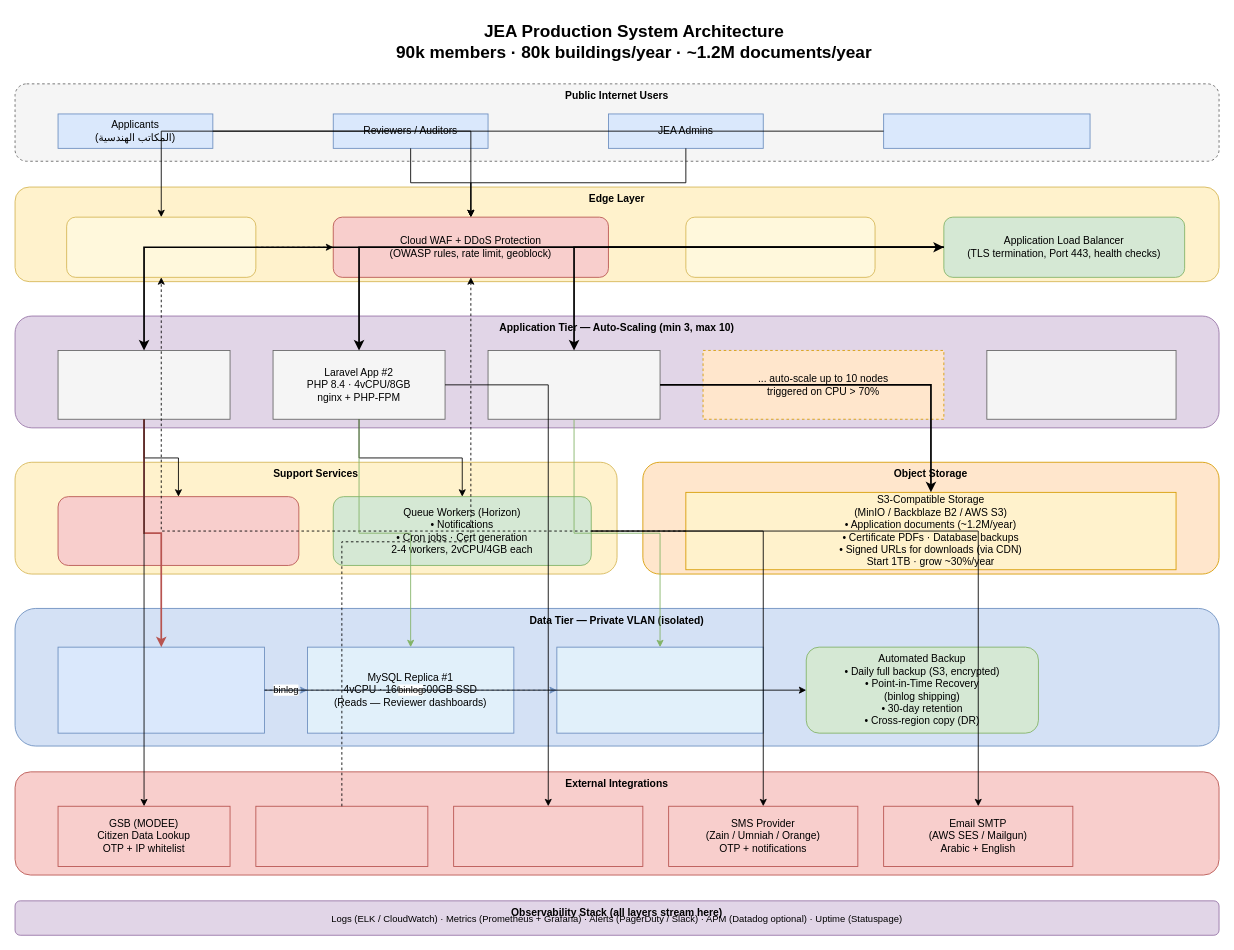
Image size: 1234x950. Some labels were removed from this diagram. The centre of each missing label's shape, as x and y in pixels:
CDN (Cloudflare / CloudFront) • Public assets • Cert PDFs cache: [161,246]
DNS + SSL (Route53 / Cloudflare): [780,246]
Frontend (Vite build) → S3 + CDN (static SPA files): [1081,384]
Laravel App #1 PHP 8.4 · 4vCPU/8GB nginx + PHP-FPM: [143,384]
Laravel App #3 PHP 8.4 · 4vCPU/8GB nginx + PHP-FPM: [573,384]
MySQL Primary 8vCPU · 32GB · 500GB SSD (Writes only) IOPS 3000+: [160,689]
MySQL Replica #2 4vCPU · 16GB · 500GB SSD (Reads — Reports, admin queries): [659,689]
Nashmi Webhook Bidirectional X-Integration-Key: [341,835]
Payment Gateway eFAWATEERcom / Arab Bank API key + HMAC: [548,835]
Public — Certificate Verification: [986,130]
Redis Cluster (Sessions · Cache · Rate Limits) 2 nodes + Sentinel 2vCPU/4GB each: [178,530]
